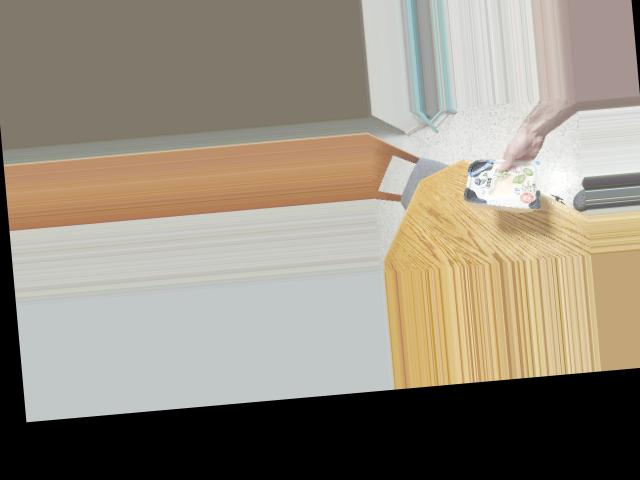cheese: (461, 152, 542, 216)
